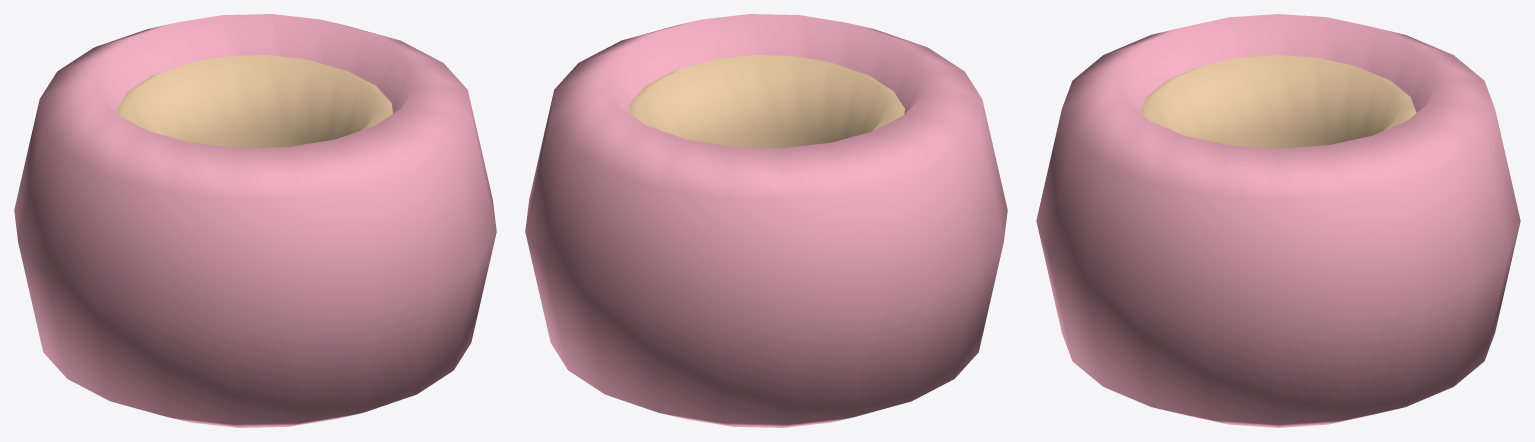
Rendered from item_tape.glb.
3 views of the same model, side by side, from view 1: azimuth 30°, elevation 25°; view 2: azimuth 150°, elevation 25°; view 3: azimuth 270°, elevation 25° (orthographic).
Parts seen in each view (by area): view 1: model; view 2: model; view 3: model.
Part boxes in pixels (x1=…): model: x1=14, y1=14, x2=496, y2=427; model: x1=525, y1=14, x2=1007, y2=427; model: x1=1036, y1=14, x2=1520, y2=427.
Bounding box in the file's own units: 0.22 × 0.14 × 0.22.
